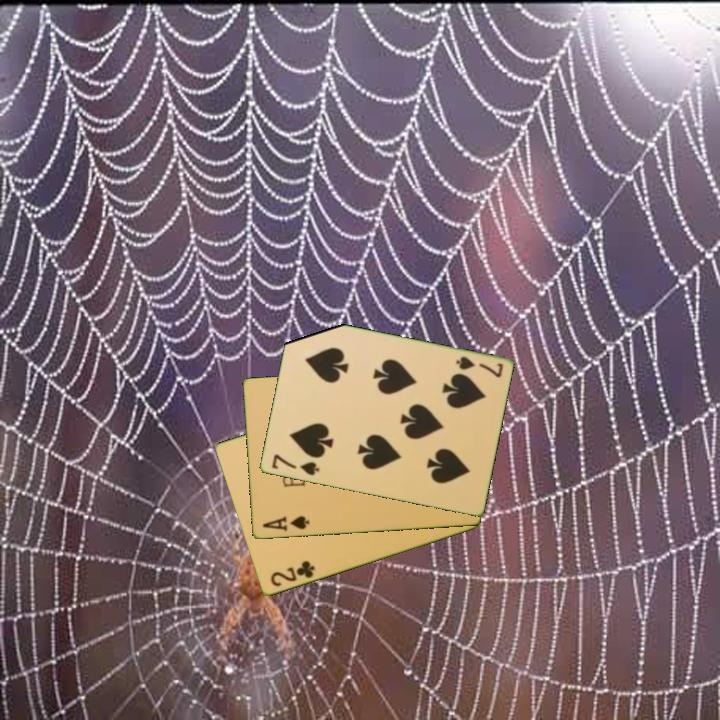2c: (267, 557, 318, 590)
7s: (268, 451, 322, 479), (452, 353, 506, 381)
As: (259, 513, 312, 534)
